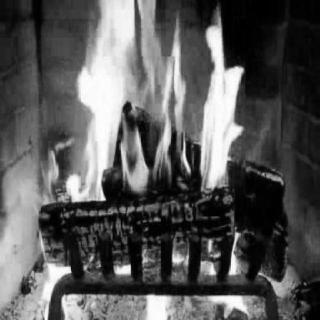Fire: (4, 3, 302, 307)
